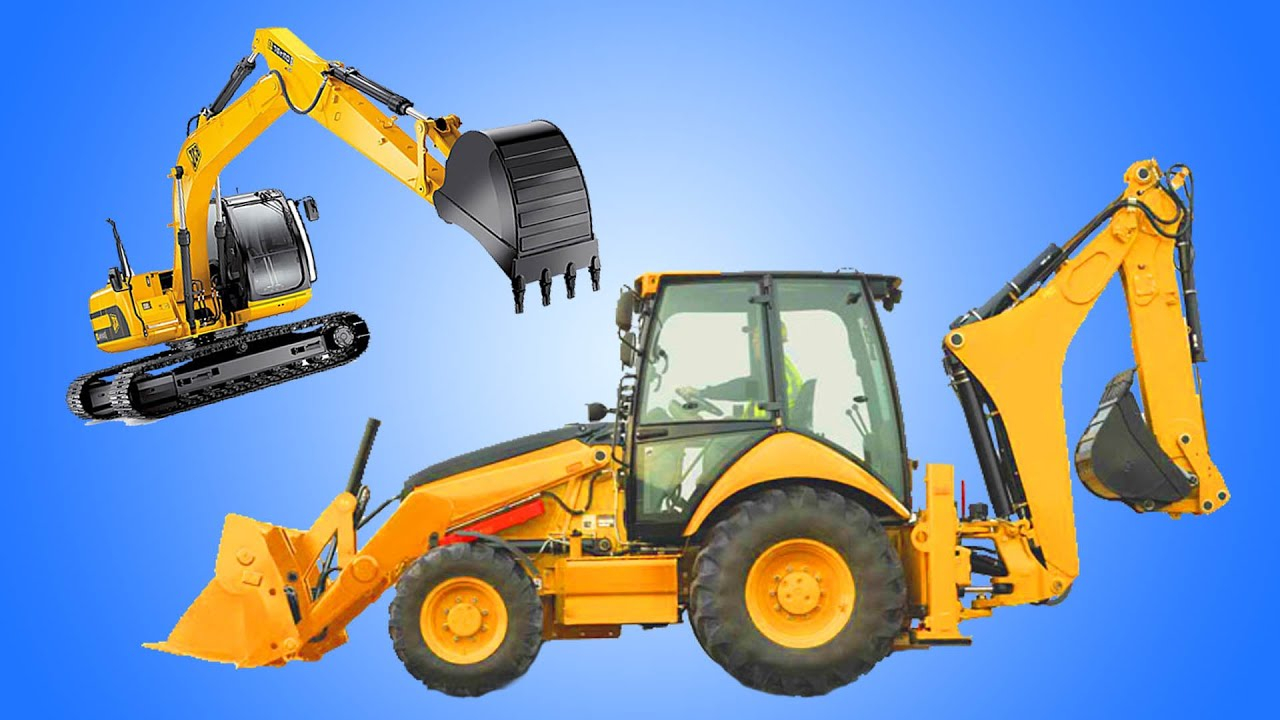backhoe: (60, 5, 608, 441), (905, 141, 1243, 622)
